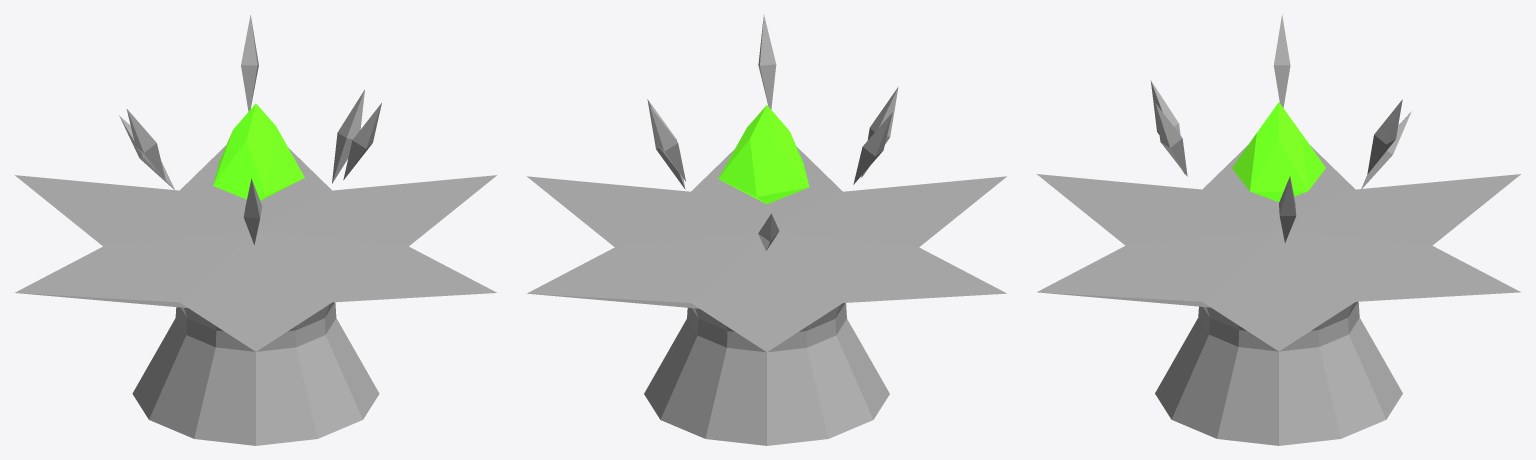
File: lvl1SP.fbx
3 renders of one model, left to right at view 1: azimuth 30°, elevation 25°; view 2: azimuth 150°, elevation 25°; view 3: azimuth 270°, elevation 25°, orthographic.
Parts seen in each view (by area): view 1: lvl1S; view 2: lvl1S; view 3: lvl1S.
Part boxes in pixels (<box>): lvl1S: <box>15,15,496,445</box>; lvl1S: <box>527,15,1006,445</box>; lvl1S: <box>1037,14,1520,445</box>.
Size of the model in its own units: 451 by 286 by 391.
